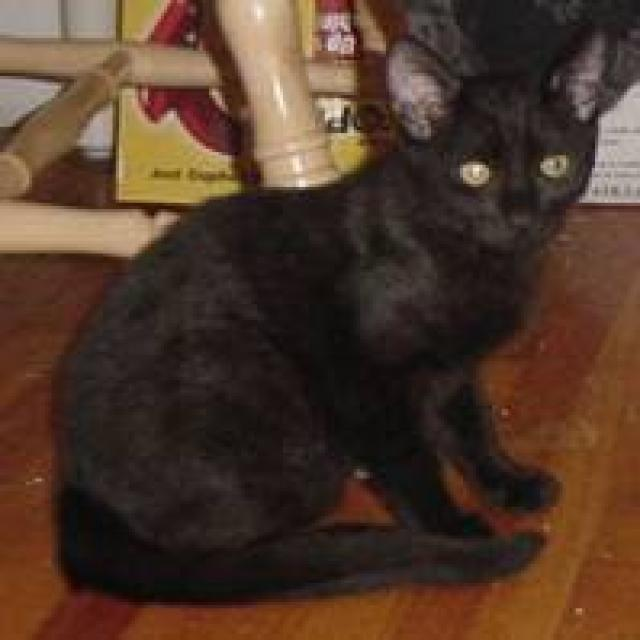cat: (45, 0, 627, 602)
